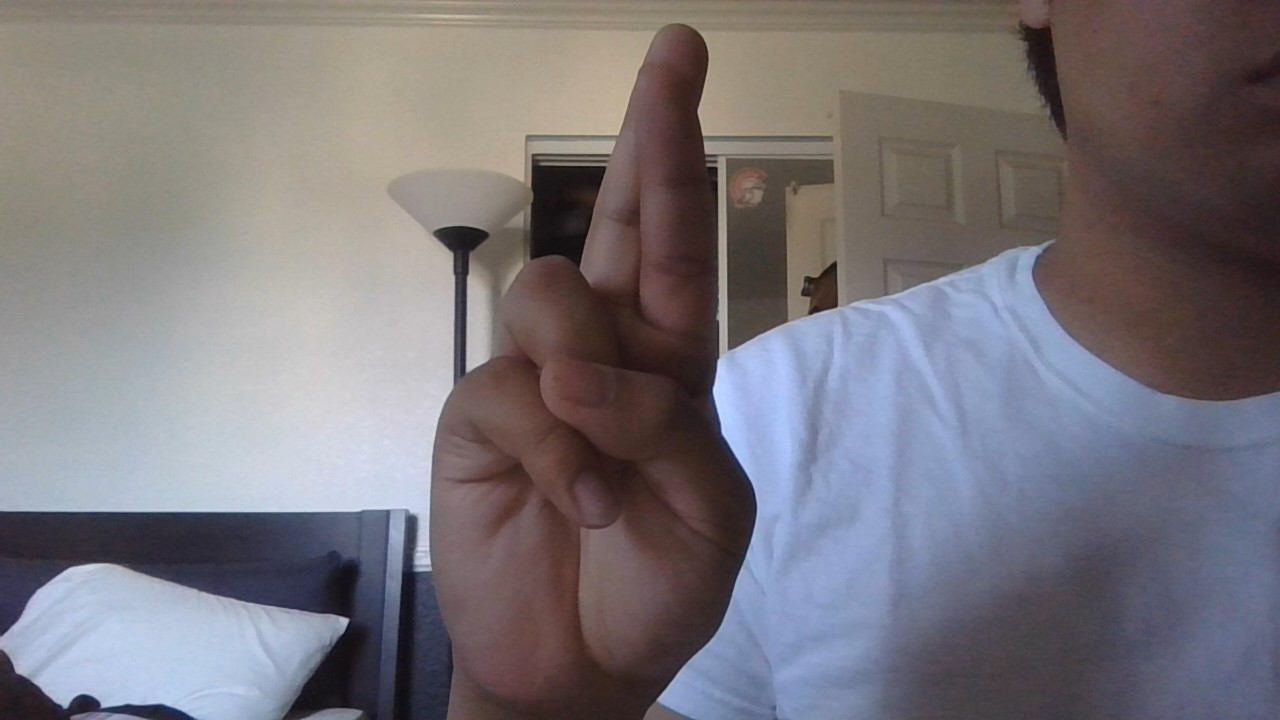r: (401, 13, 787, 717)
